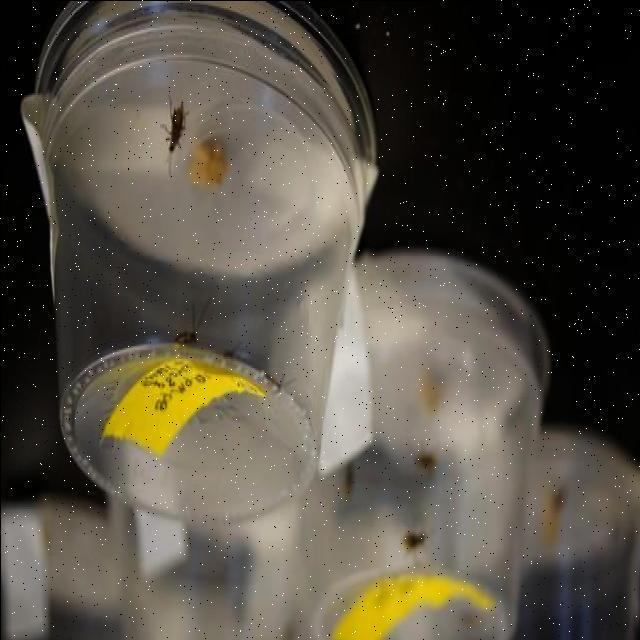trips: (160, 96, 188, 176), (400, 516, 433, 558), (413, 442, 437, 477), (343, 458, 354, 501)
